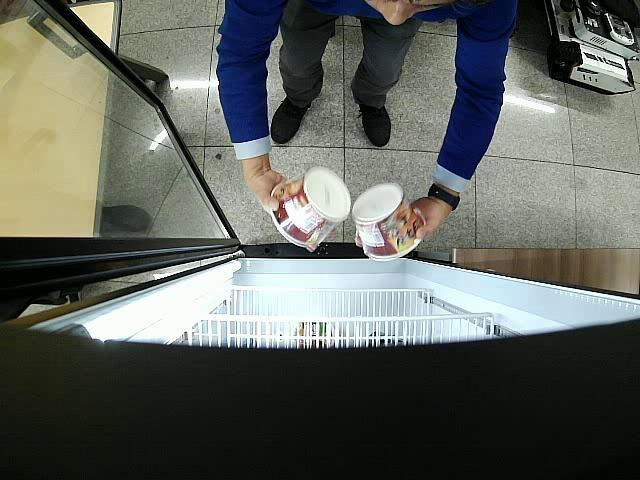05_nuguri_L: (272, 167, 351, 247), (354, 183, 426, 261)
